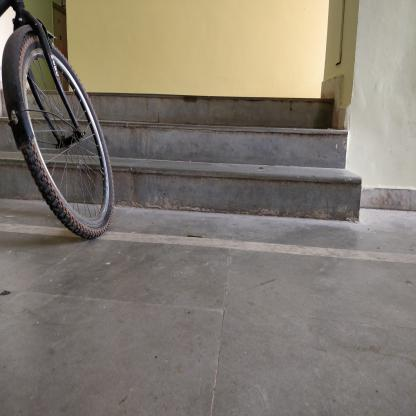stairs: (123, 90, 333, 227)
